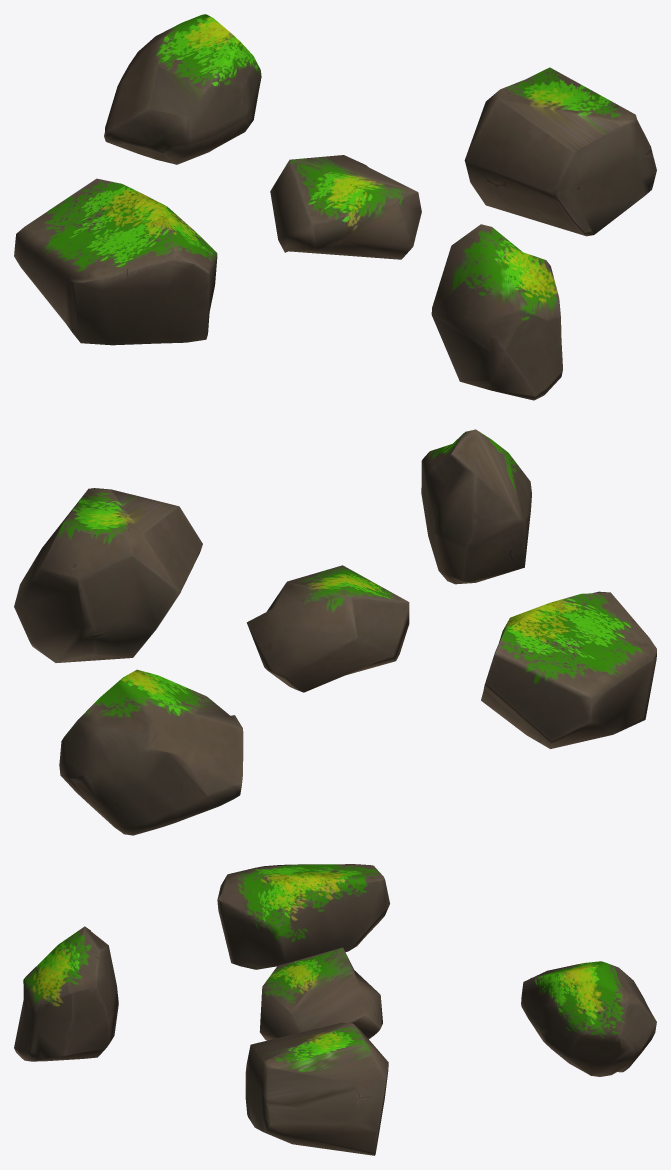
The model's file is StoneGrp.glb.
3 views of the same model, one above another, from view 1: azimuth 30°, elevation 25°; view 2: azimuth 150°, elevation 25°; view 3: azimuth 270°, elevation 25° (orthographic). The views are drawn at different scales.
Parts seen in each view (by area): view 1: ST_Stone1, ST_Stone2, ST_Stone5, ST_Stone3, ST_Stone4; view 2: ST_Stone2, ST_Stone3, ST_Stone1, ST_Stone4, ST_Stone5; view 3: ST_Stone2, ST_Stone1, ST_Stone3, ST_Stone5, ST_Stone4.
Boxes of the visible parts, x1,y1,x2,y2 form: ST_Stone1: (14, 178, 217, 345); ST_Stone2: (464, 67, 656, 236); ST_Stone5: (431, 224, 562, 400); ST_Stone3: (104, 14, 261, 164); ST_Stone4: (270, 155, 421, 259); ST_Stone2: (14, 488, 202, 662); ST_Stone3: (59, 669, 243, 835); ST_Stone1: (481, 591, 656, 748); ST_Stone4: (246, 565, 409, 692); ST_Stone5: (421, 429, 531, 584); ST_Stone2: (245, 1022, 388, 1155); ST_Stone1: (217, 864, 389, 969); ST_Stone3: (521, 961, 656, 1076); ST_Stone5: (14, 926, 118, 1061); ST_Stone4: (259, 947, 382, 1040).
Size of the model in its own units: 5.31 by 1.46 by 6.16.
Materials: 1 (1 with a texture image).
